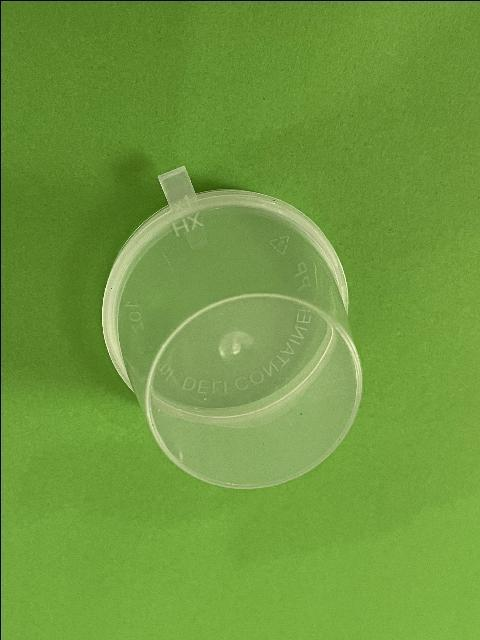plasticcontainer: (98, 160, 364, 492)
